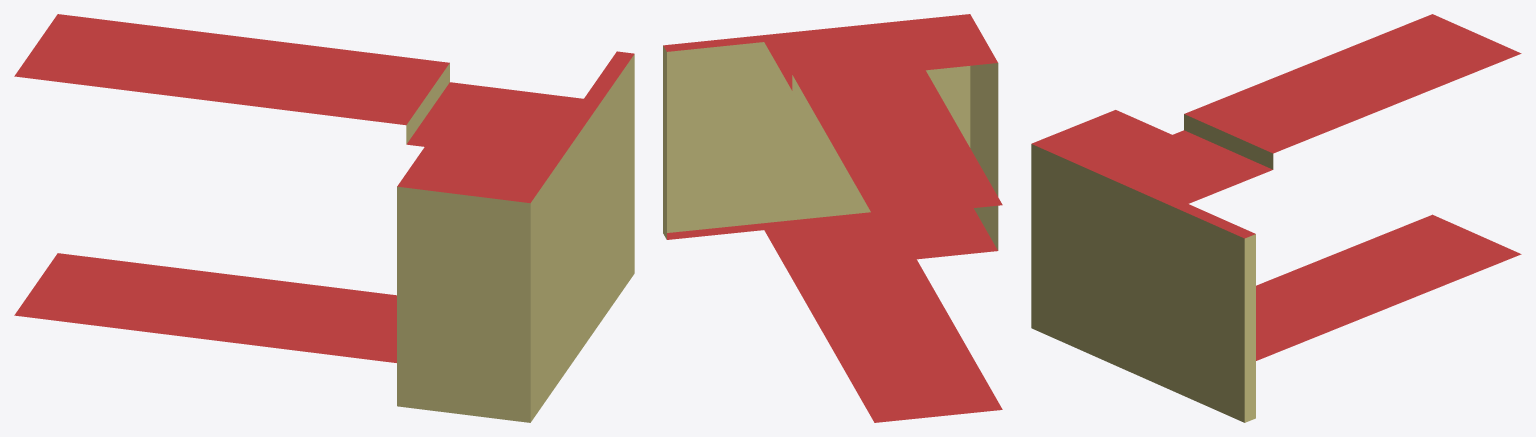
3 renders of one model, left to right at view 1: azimuth 30°, elevation 25°; view 2: azimuth 150°, elevation 25°; view 3: azimuth 270°, elevation 25°, orthographic. The views are drawn at different scales.
Size of the model in its own units: 21.73 by 21.62 by 9.76.
